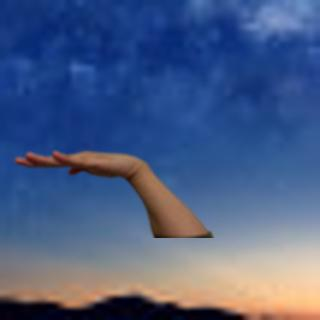WAIT: (6, 139, 155, 186)
